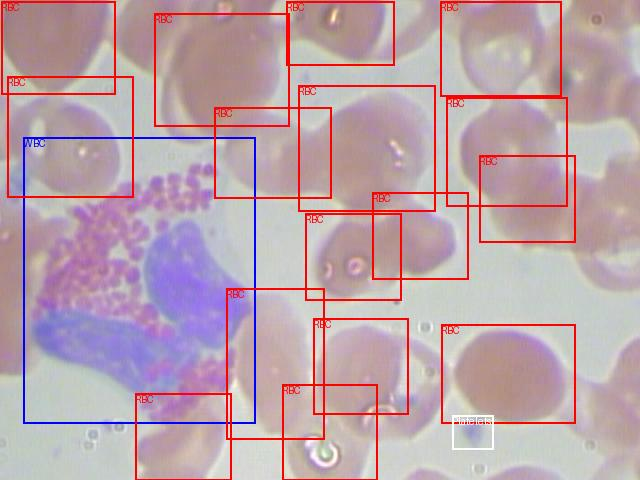Platelets: (452, 415, 493, 449)
RBC: (298, 85, 435, 211), (154, 13, 289, 126), (7, 76, 133, 197), (226, 288, 324, 439), (441, 324, 575, 423), (446, 97, 567, 206), (440, 1, 561, 96), (214, 107, 331, 198), (1, 1, 115, 94), (313, 318, 408, 414), (282, 384, 377, 480), (372, 192, 468, 279), (305, 213, 401, 300), (479, 155, 575, 242), (135, 393, 231, 480), (286, 1, 394, 65)
WBC: (23, 137, 255, 423)
